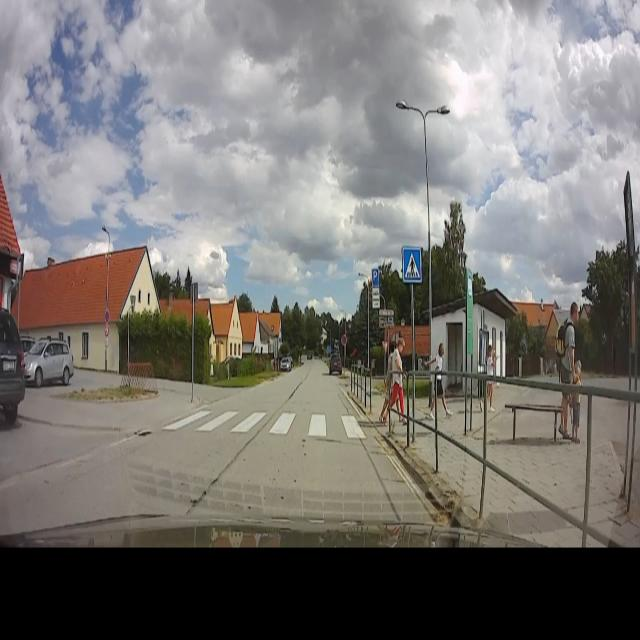Pedestrian crosswalk: (167, 407, 370, 441), (402, 247, 422, 284)
Person: (552, 286, 586, 452), (388, 328, 408, 428), (380, 335, 401, 426), (431, 333, 447, 418), (483, 338, 498, 409)
